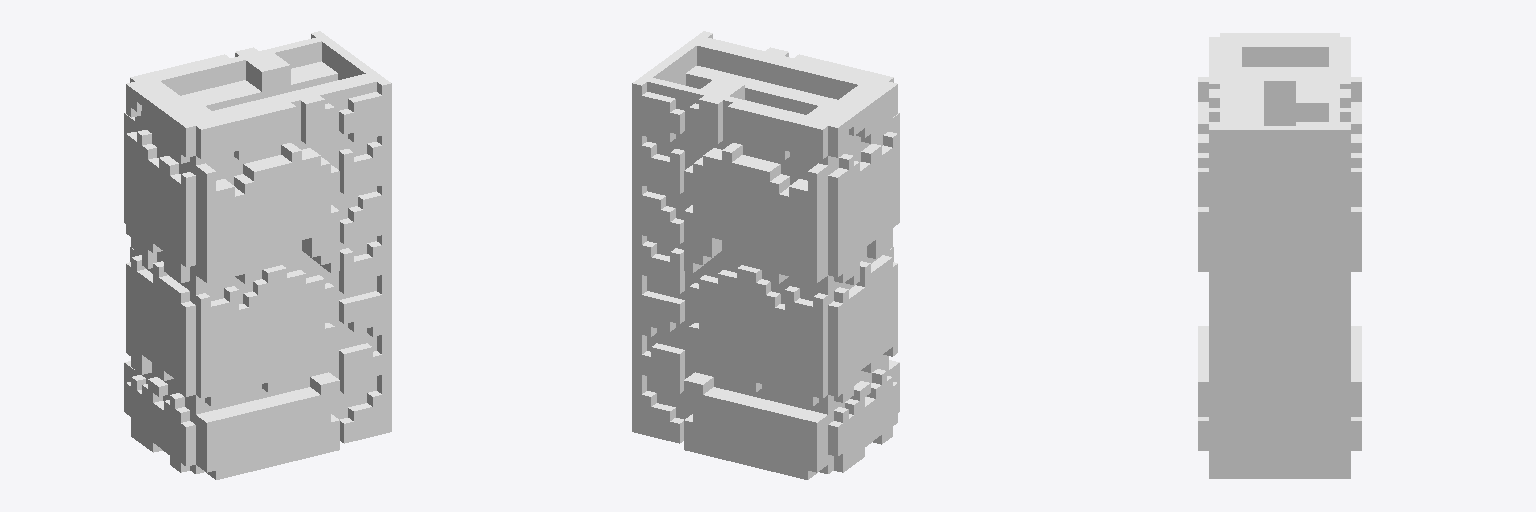
Rendered from WallDoorLeft.obj.
3 views of the same model, side by side, from view 1: azimuth 30°, elevation 25°; view 2: azimuth 150°, elevation 25°; view 3: azimuth 270°, elevation 25° (orthographic).
Parts seen in each view (by area): view 1: object 1; view 2: object 1; view 3: object 1.
Part boxes in pixels (x1,y1,x2,y2): object 1: (124,31,391,479); object 1: (632,31,899,479); object 1: (1198,33,1361,478).
Bounding box in the file's own units: 2.1 × 3.5 × 1.5.